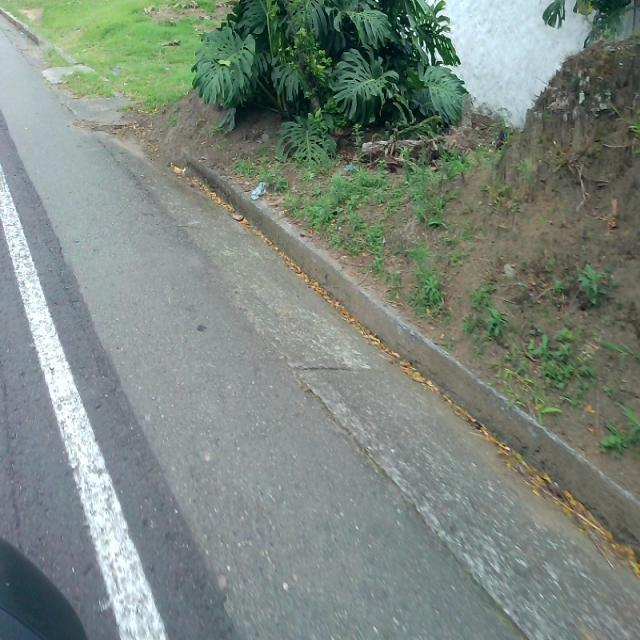DITCH: (1, 1, 639, 638), (2, 5, 638, 638)
